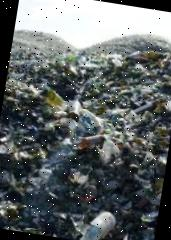glass: (30, 88, 112, 160), (73, 206, 121, 240)
